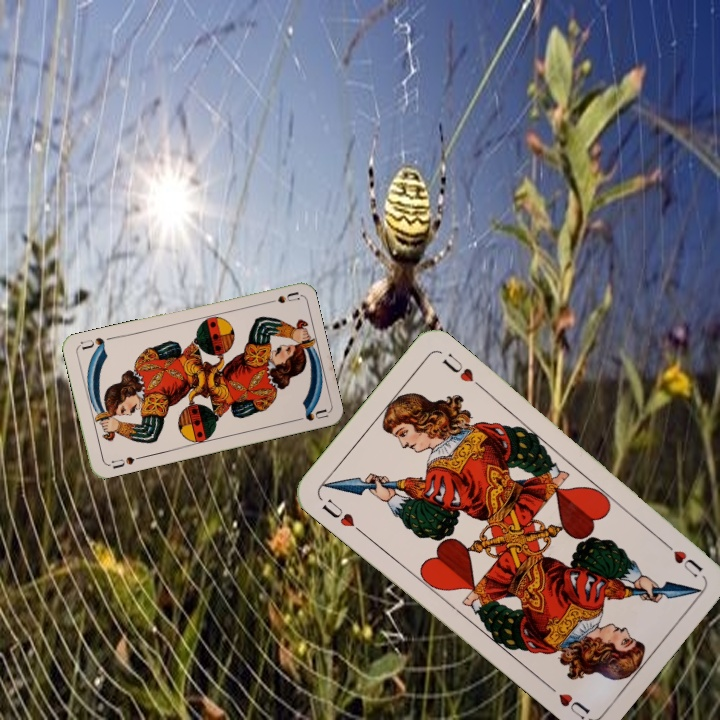HU: (657, 535, 705, 580), (318, 494, 366, 536)
SU: (260, 288, 301, 307), (108, 452, 144, 471)
